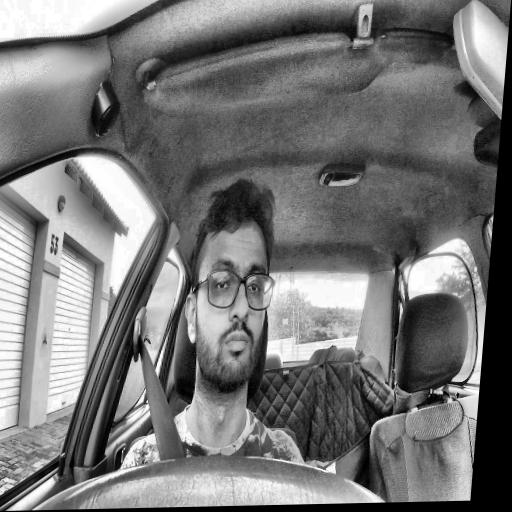awake: (177, 176, 285, 398)
